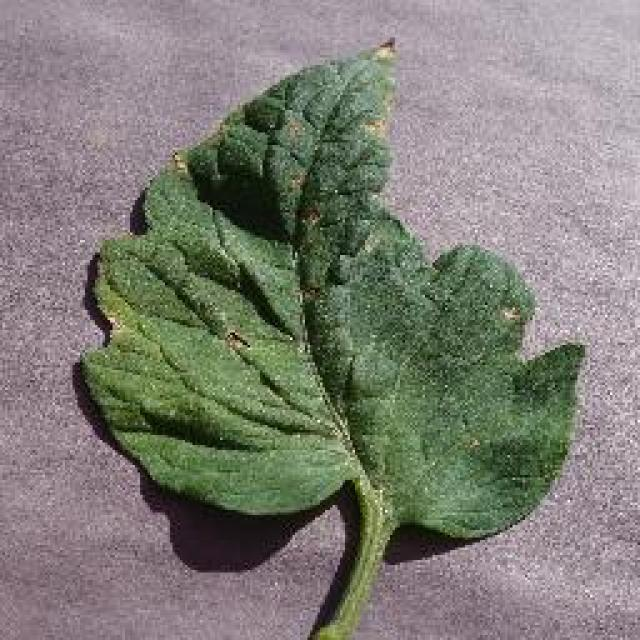Tom_Target_Spot: (270, 89, 390, 239), (204, 295, 261, 366)
